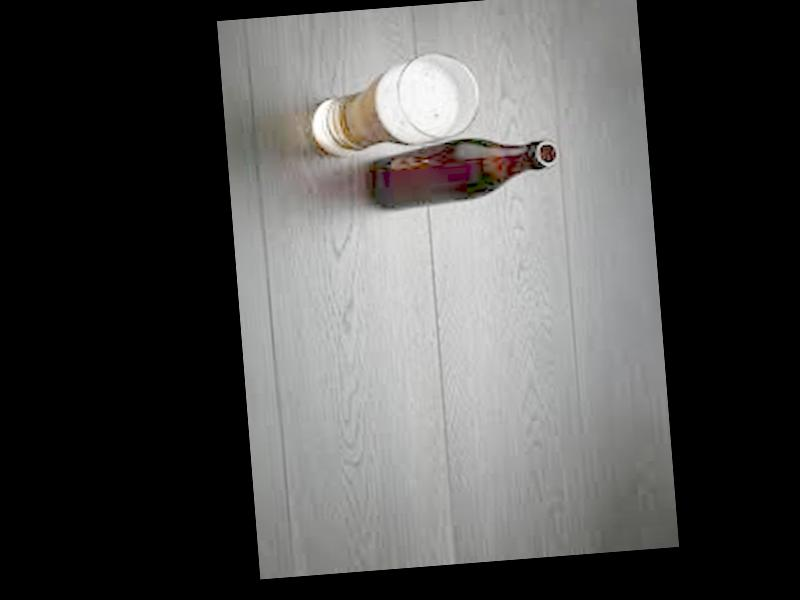Beer: (357, 129, 564, 214)
